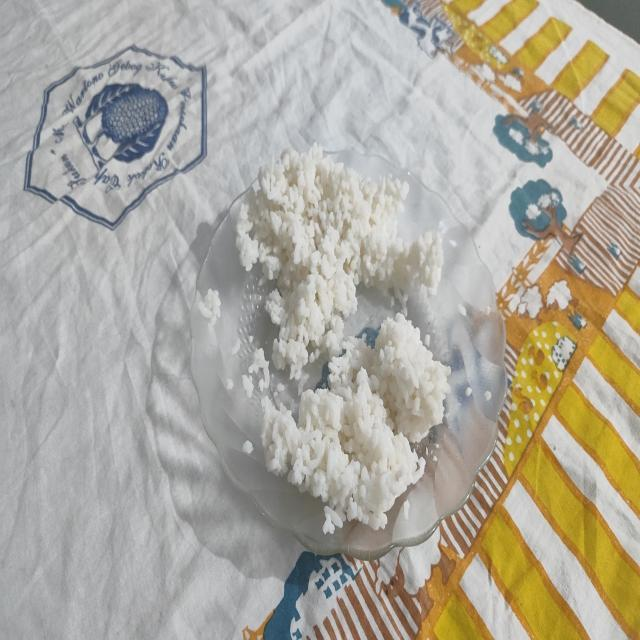nasi_putih: (237, 144, 443, 372), (262, 313, 450, 533)
